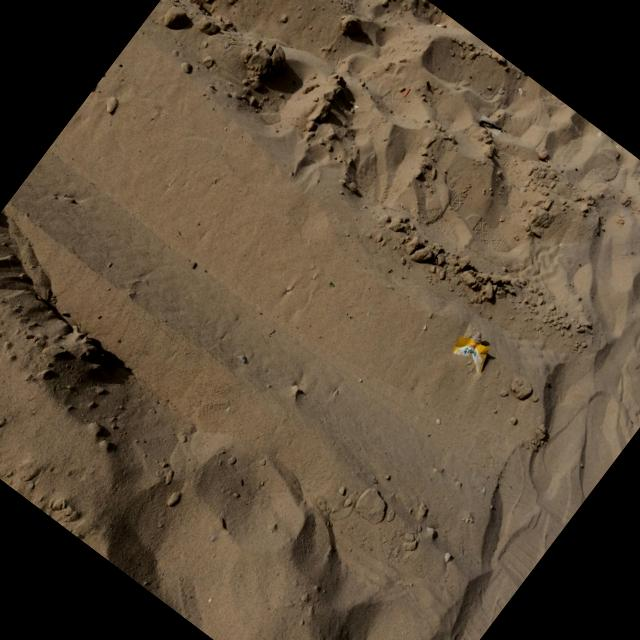Straw: (479, 122, 502, 132)
